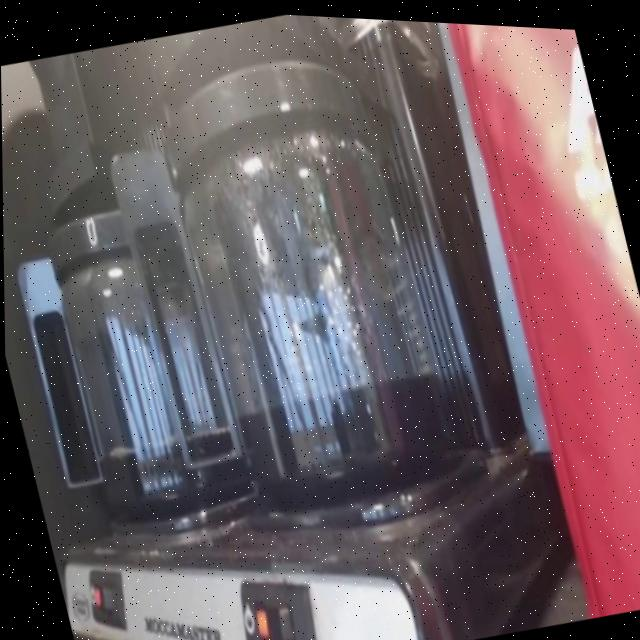coffee: (173, 139, 463, 515), (47, 252, 254, 529)
